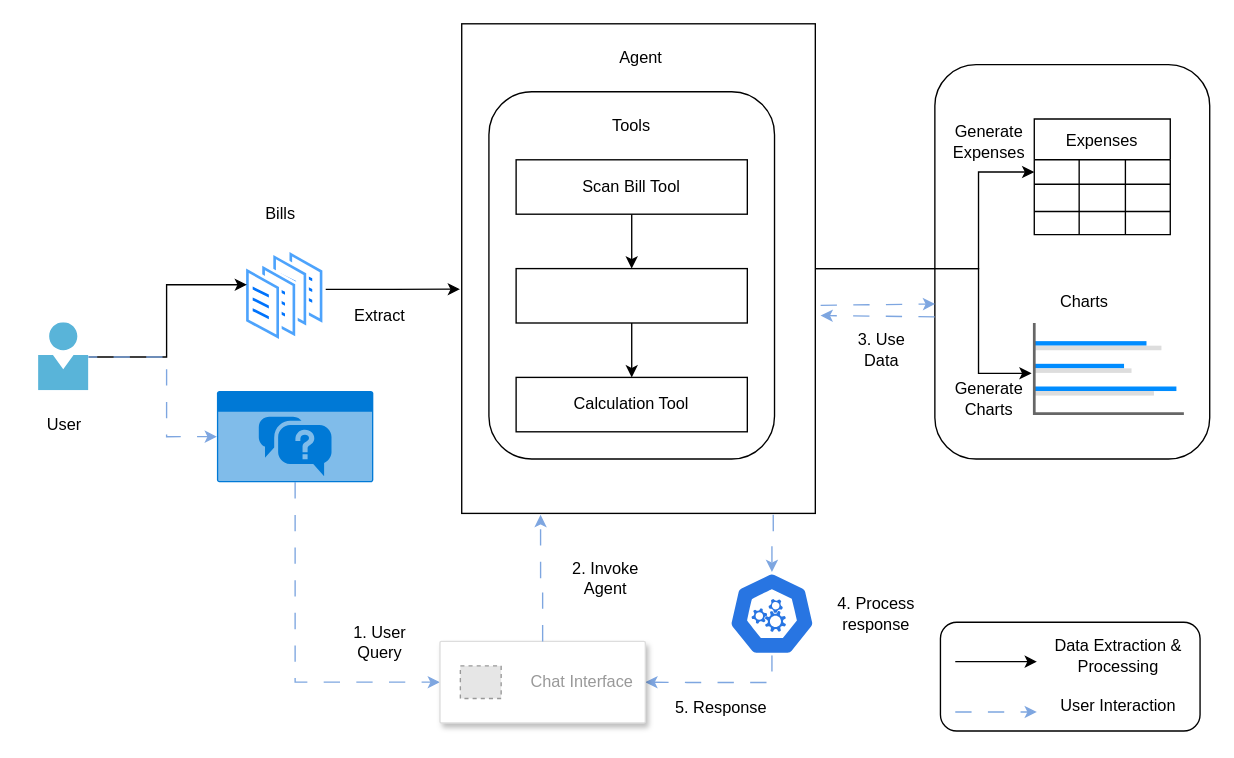
The diagram is 1234 pixels wide and 758 high, and some of its shapes have lost their labels. Grey dashed boxes stand in for pictures. The shapes that lost their labels are listed below. From the top down, each one's centre as x and y in pixels, then its label:
At point 631,295: "Categorization Tool".
At point 294,436: "User Query".
